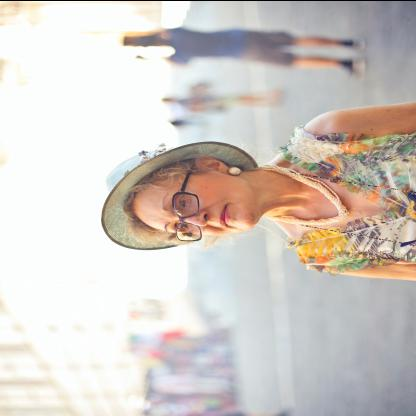Eye: (177, 194, 189, 208), (176, 222, 190, 229)
Mouth: (220, 203, 230, 225)
Nose: (184, 210, 209, 226)
